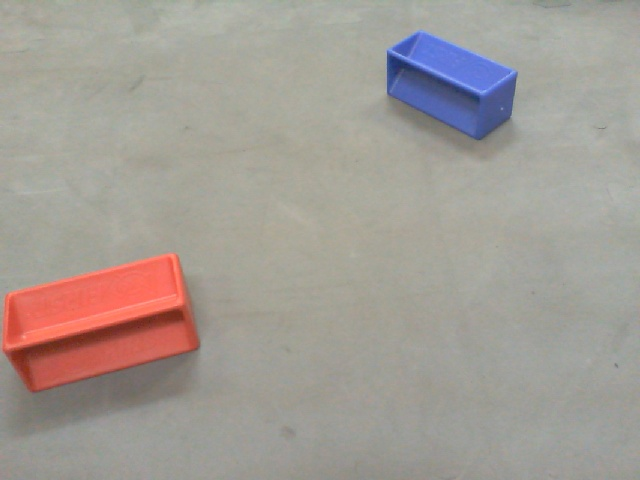BlueSample: (384, 27, 517, 143)
RedSample: (1, 246, 201, 416)
